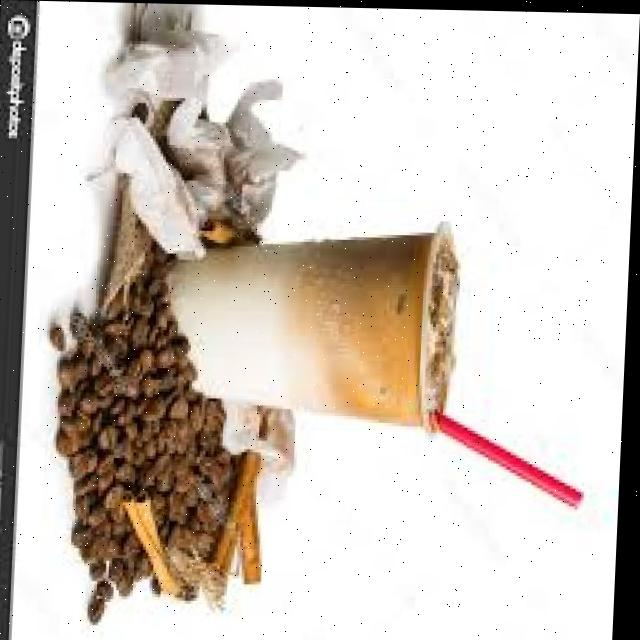cup: (171, 227, 461, 428)
